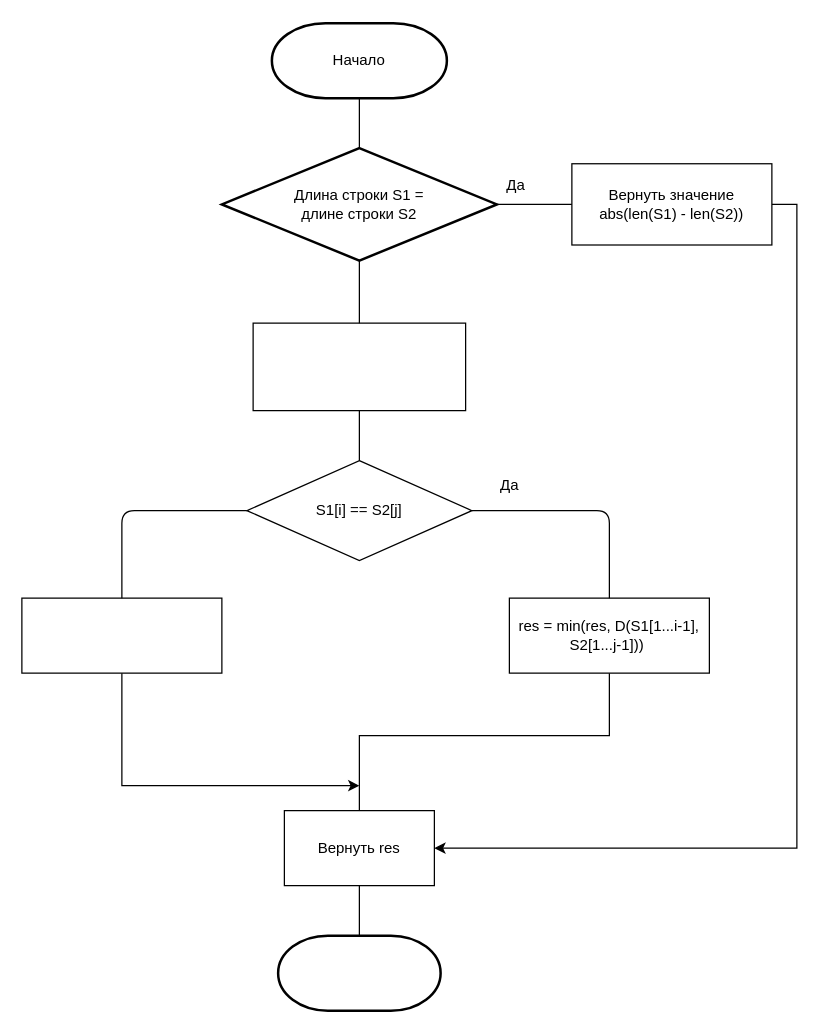
The diagram is 829 pixels wide and 1033 high, and some of its shapes have lost their labels. The centre of each missing label's shape, as x and y in pixels:
res = min(D(S1[1...i], S2[1...j-1] + 1, D(S1[1...i-1], S2[1...j] + 1): (359,366)
res = min(res, D(S1[1...i-1], S2[1...j-1]) + 1): (121,635)
Конец: (358,972)
